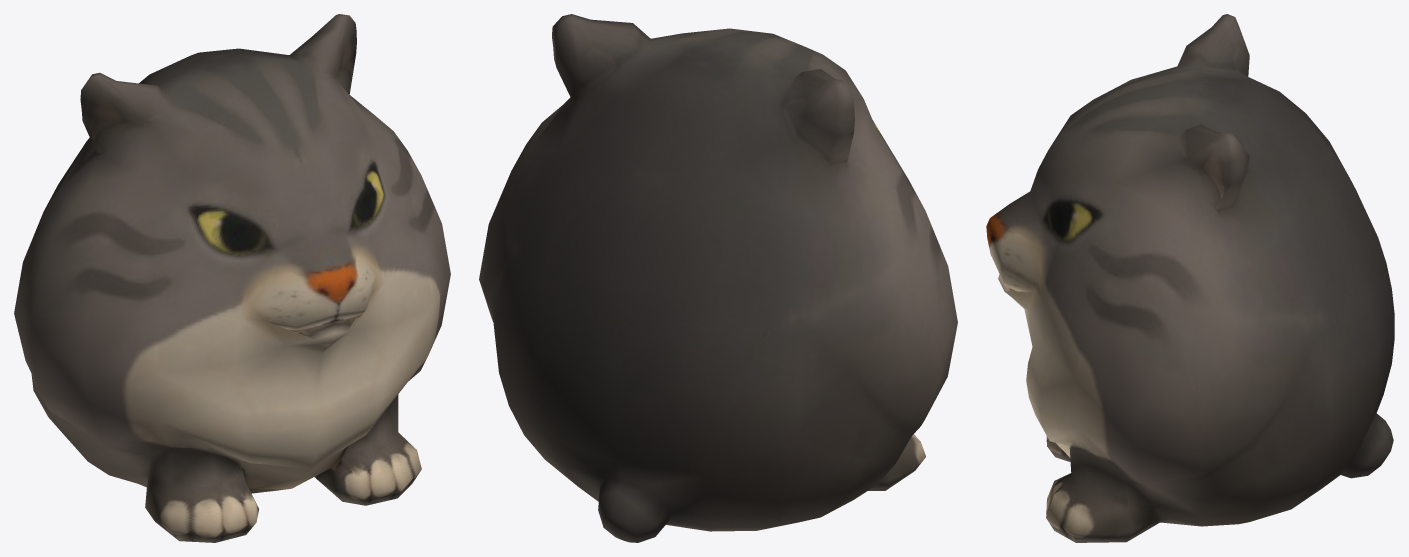
3 views of the same model, side by side, from view 1: azimuth 30°, elevation 25°; view 2: azimuth 150°, elevation 25°; view 3: azimuth 270°, elevation 25° (orthographic). The views are drawn at different scales.
Parts seen in each view (by area): view 1: 4; view 2: 4; view 3: 4.
Part boxes in pixels (<box>): 4: <box>14,14,450,542</box>; 4: <box>479,14,957,542</box>; 4: <box>986,14,1394,542</box>.
Bounding box in the file's own units: 100 × 97.85 × 88.09.
